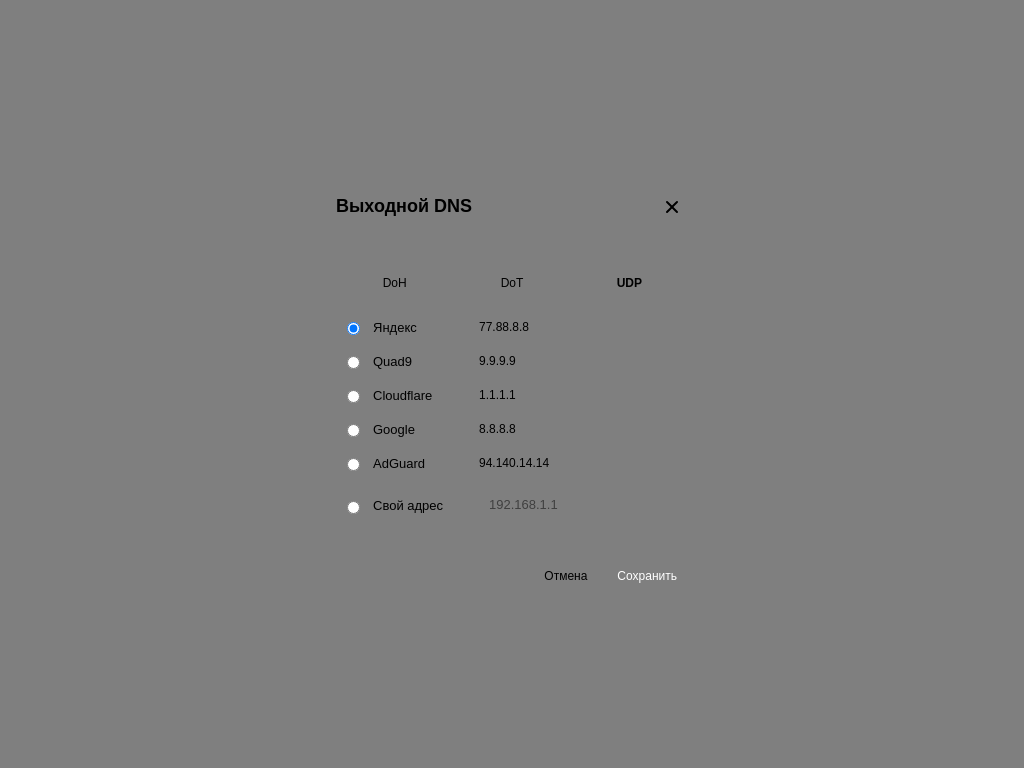
Scenario: SimpleDnsPickerModal › пустой свой адрес — сохранение заблокировано
The width and height of the screenshot is (1024, 768).
What coordinates should you click on to do the following:
click the radio button labelled "Свой адрес"
I would click on:
 (354, 507)
Its box is [347,500,360,514].
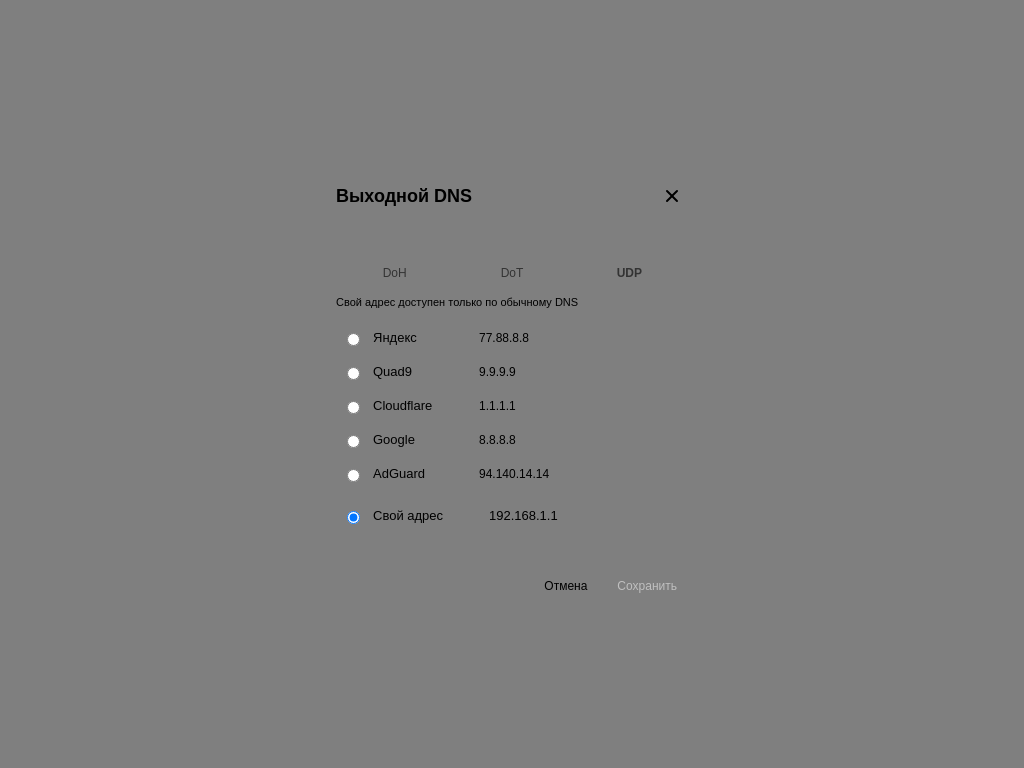
Expected: the button "Сохранить" is disabled, [606,572,688,600]
